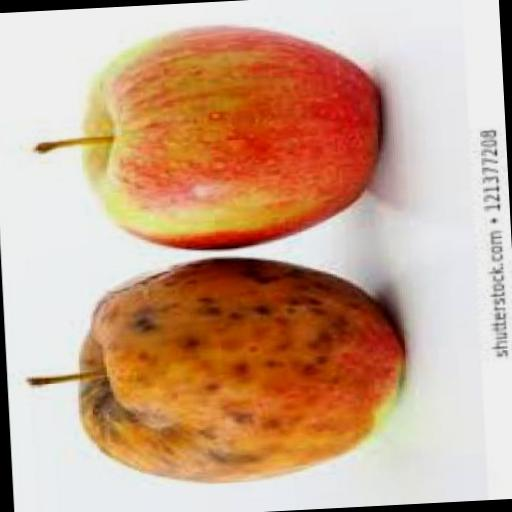biodegradable: (17, 252, 405, 495), (26, 18, 384, 260)
